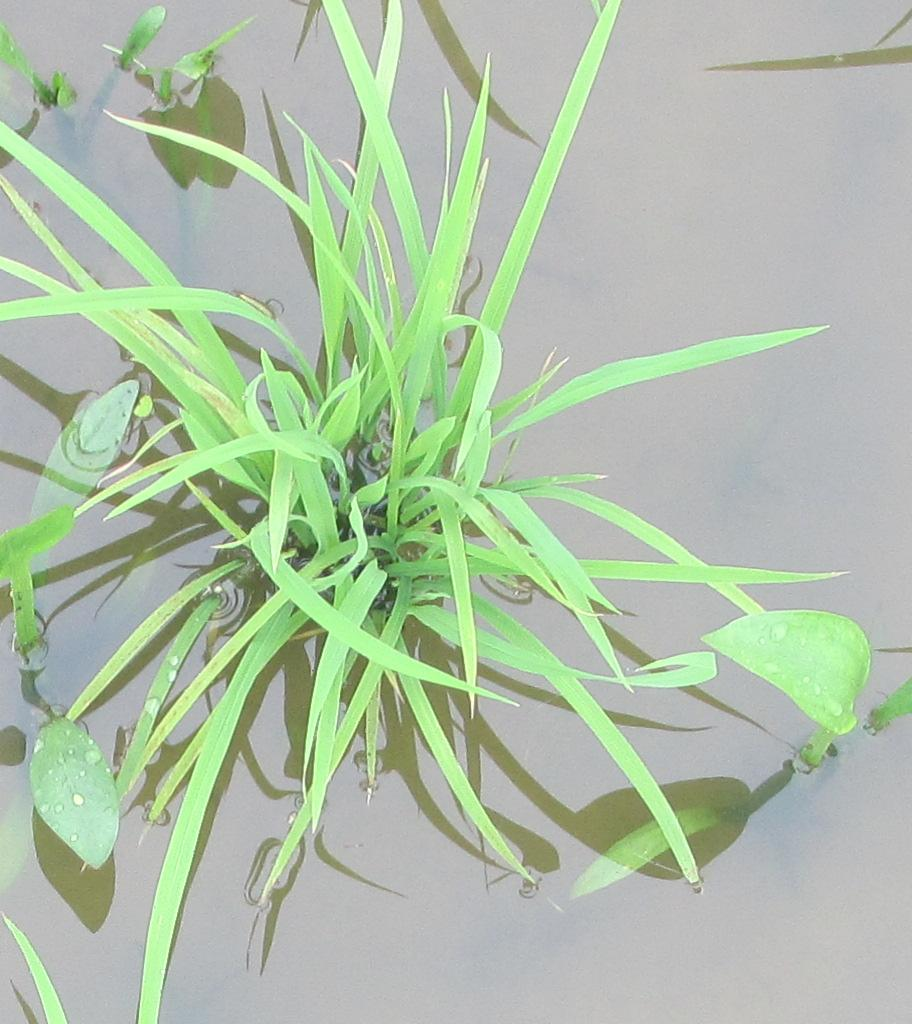Weed: (692, 603, 878, 741), (24, 719, 138, 892)
